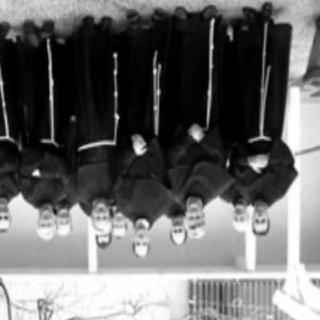other: (13, 227, 300, 269)
